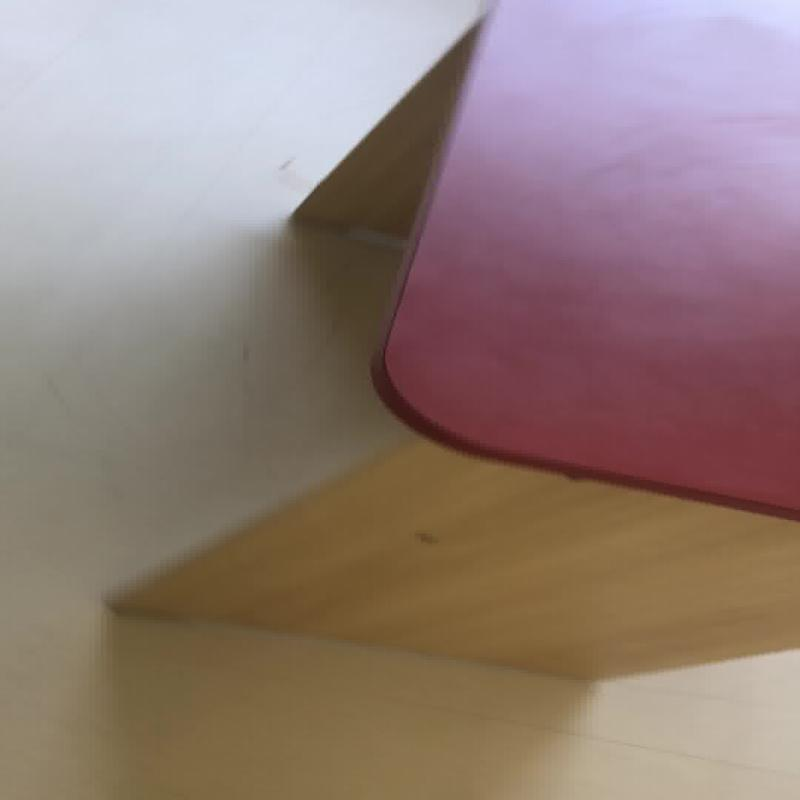sponge: (368, 0, 798, 521), (103, 433, 798, 682)
